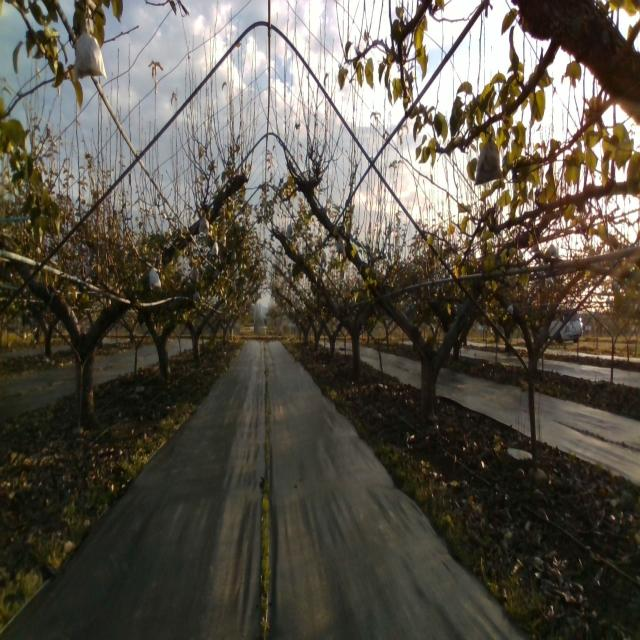pearbags: (73, 32, 106, 82), (474, 132, 503, 186), (149, 263, 161, 290), (335, 234, 346, 258), (198, 212, 209, 235)
